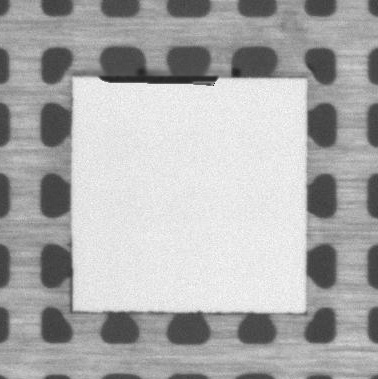DIE_BROKEN: (96, 71, 221, 90)
